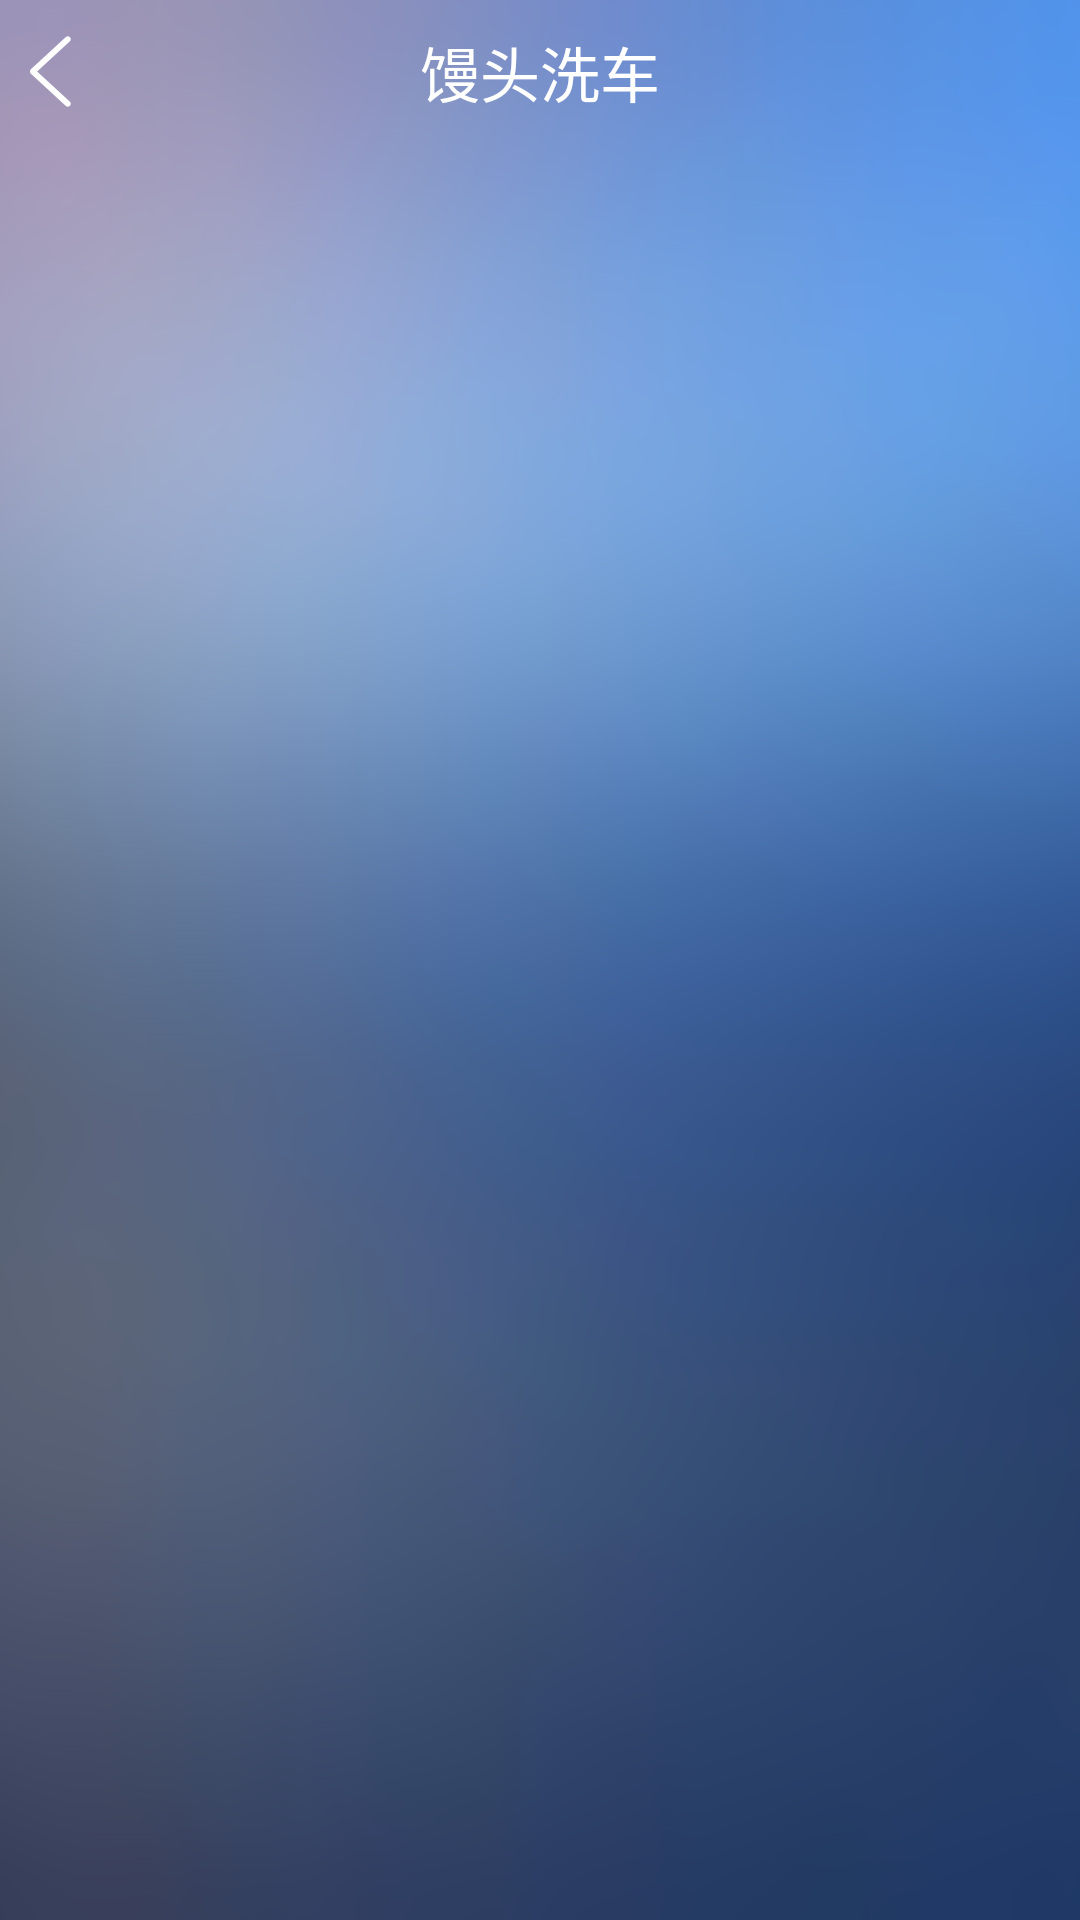

Where icons sit on this 1080×1920 app screen, as (x1, y1, x2, y2):
titlebar back: (30, 36, 71, 107)
